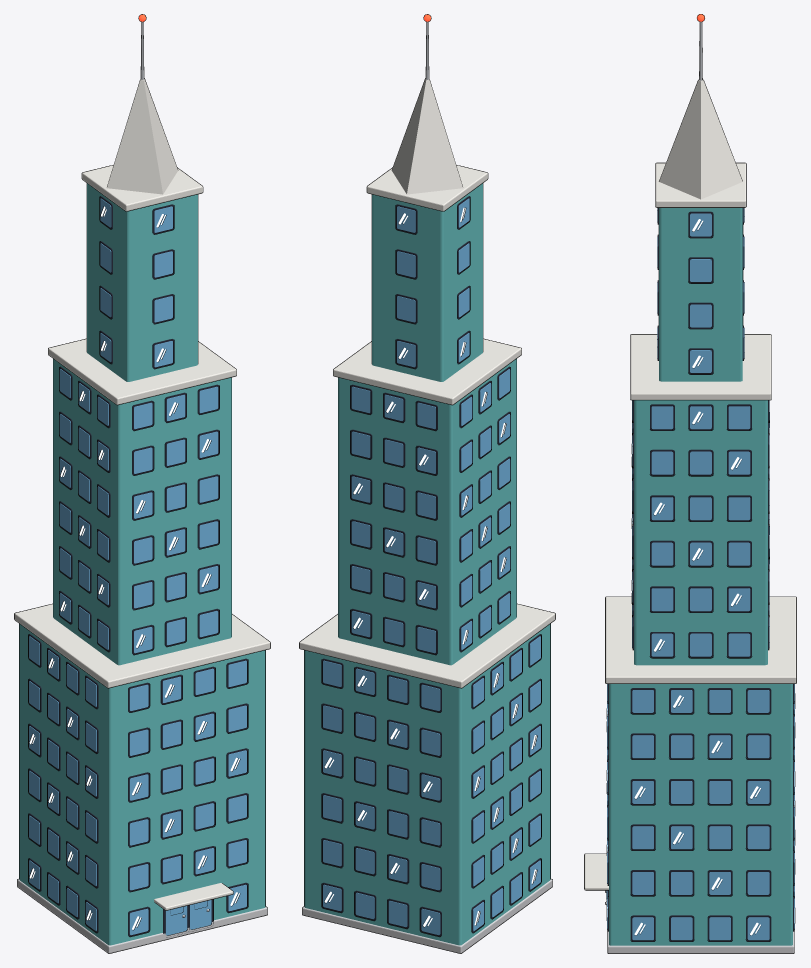
The model's file is Building_Tall_Skyscraper.fbx.
3 renders of one model, left to right at view 1: azimuth 30°, elevation 25°; view 2: azimuth 150°, elevation 25°; view 3: azimuth 270°, elevation 25°, orthographic.
Parts seen in each view (by area): view 1: Building_Tall_Skyscraper; view 2: Building_Tall_Skyscraper; view 3: Building_Tall_Skyscraper.
Part boxes in pixels (left/top/right/bottom): Building_Tall_Skyscraper: left=14, top=14, right=270, bottom=953; Building_Tall_Skyscraper: left=299, top=14, right=555, bottom=953; Building_Tall_Skyscraper: left=584, top=14, right=796, bottom=953.
Bounding box in the file's own units: 22.92 × 119 × 25.42.
